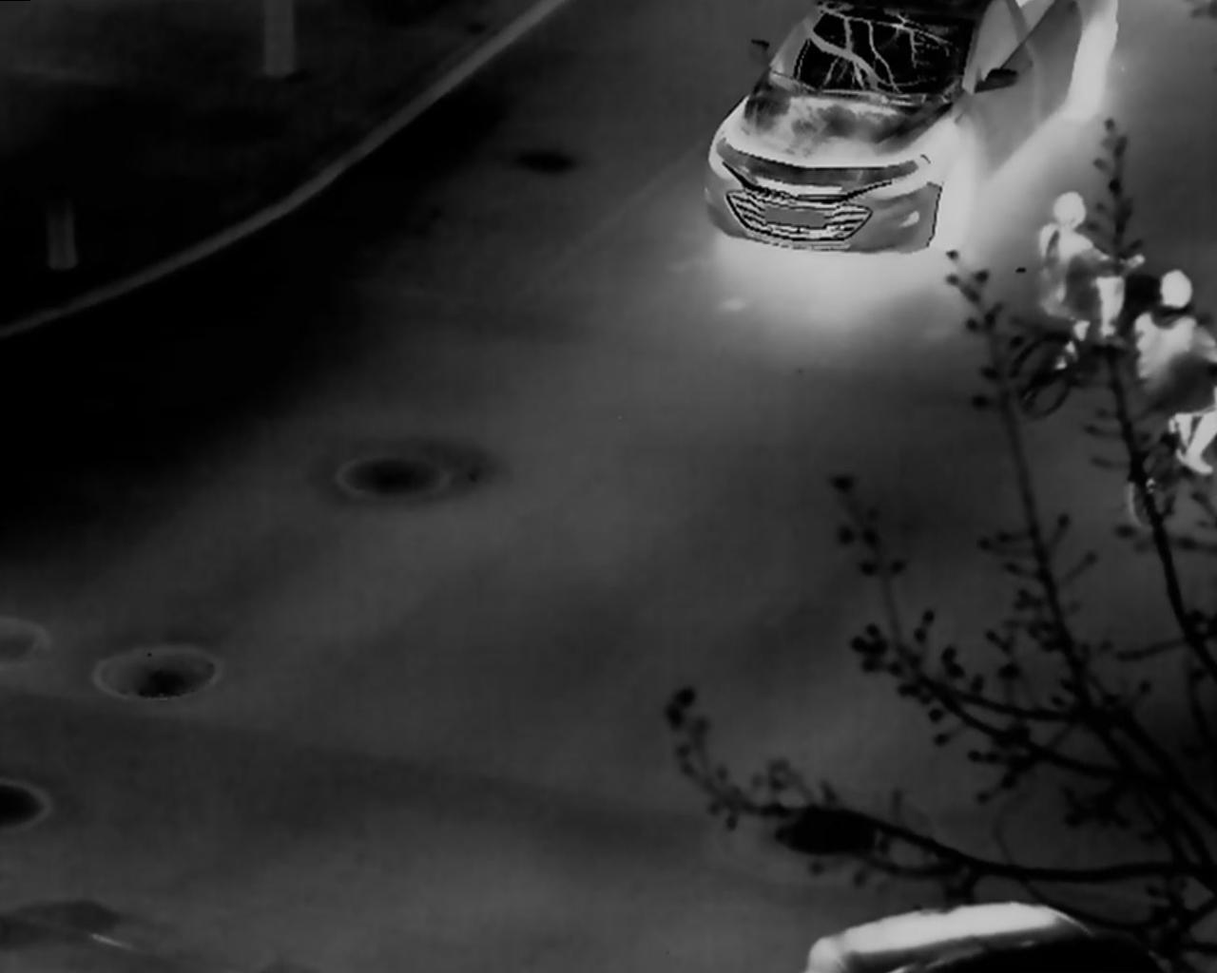person: (1038, 188, 1143, 372), (1134, 266, 1217, 480)
